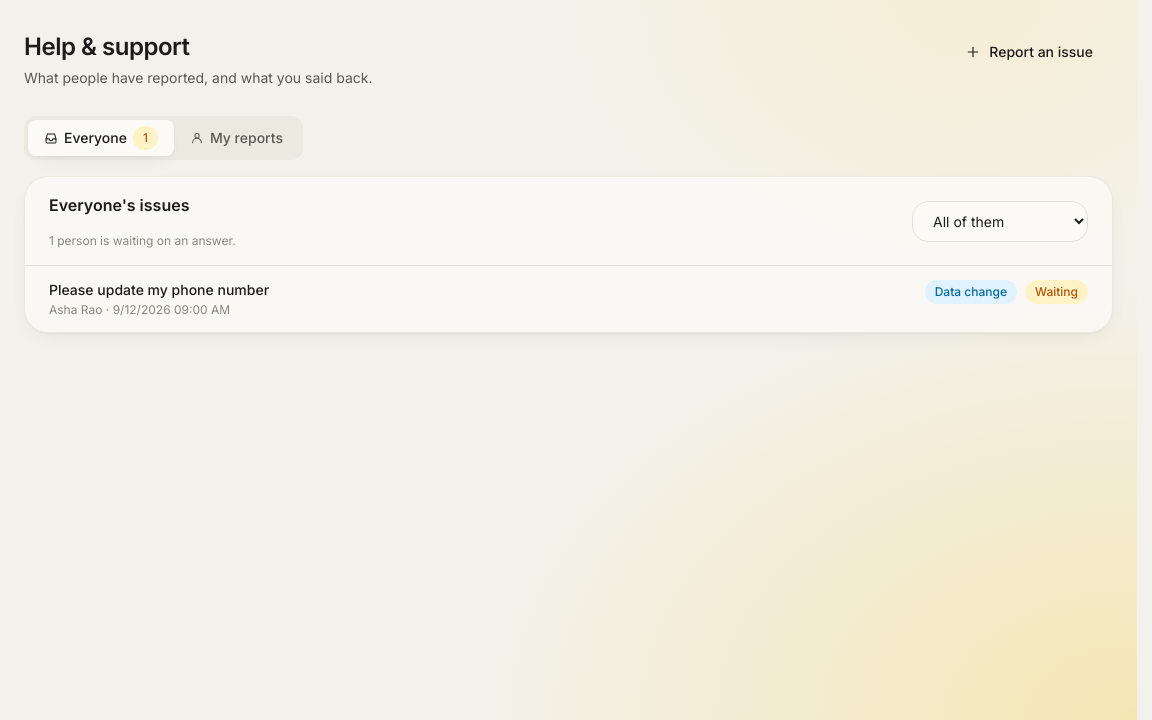
Test: asking for a detail to be changed › makes the change with one click
Click the button "update my phone" at (159, 290), box [25,266,1112,332]
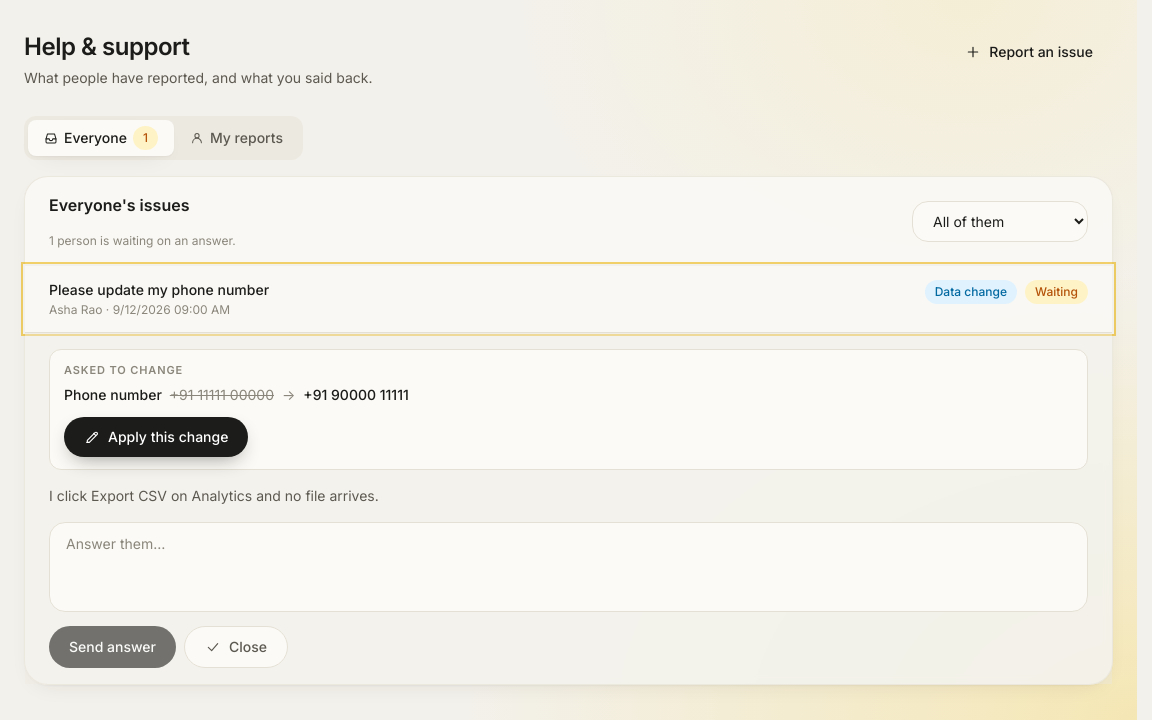
Click the button "Apply this change" at (156, 437), box [64,417,248,457]
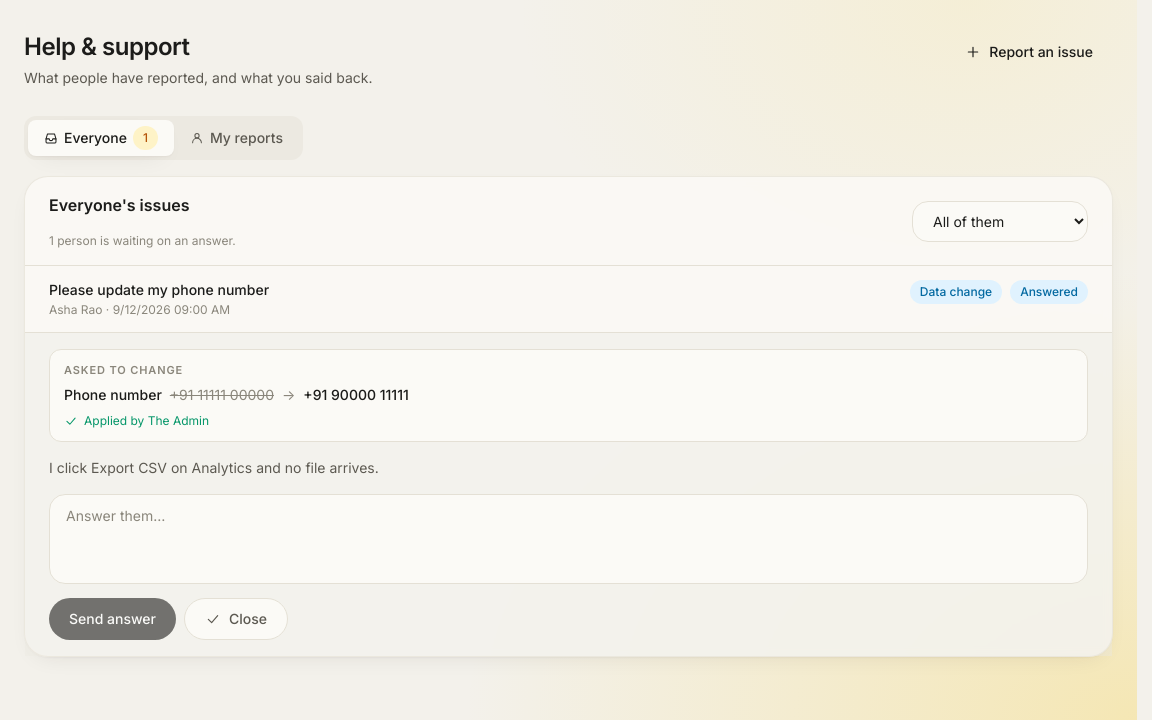
Expected: the text "Applied by The Admin" is shown, [64,413,209,428]
